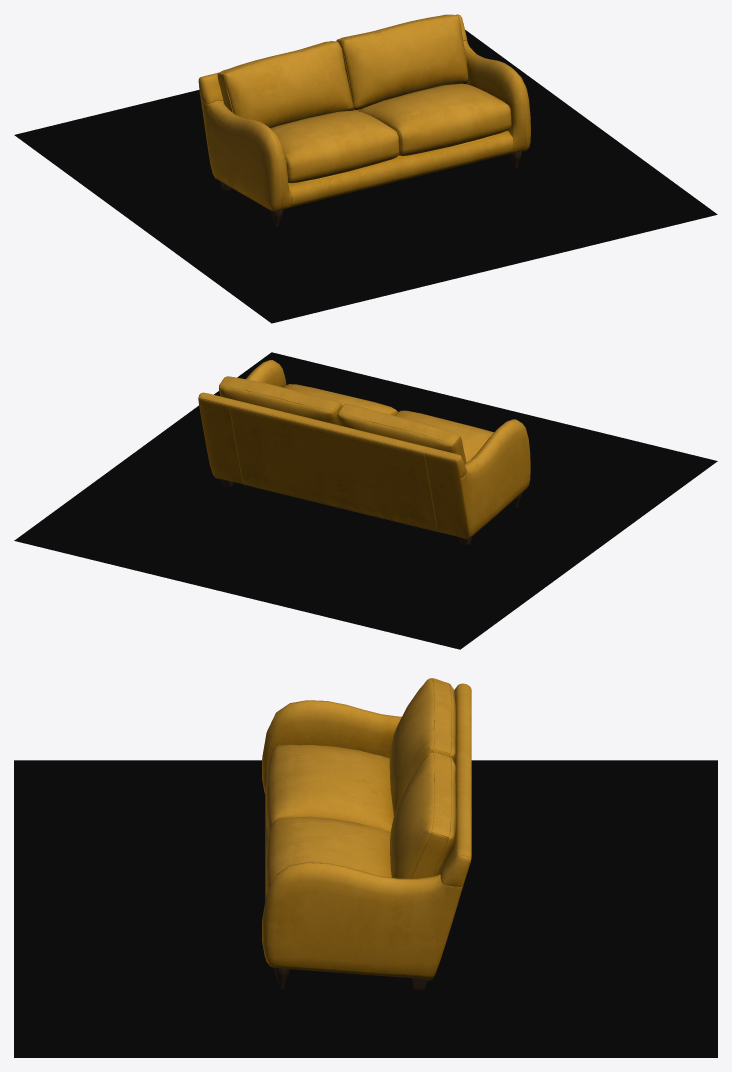
The model's file is sofia_3_seater_sofa_plush_indigo_velvet.glb.
3 views of the same model, one above another, from view 1: azimuth 30°, elevation 25°; view 2: azimuth 150°, elevation 25°; view 3: azimuth 270°, elevation 25° (orthographic). The views are drawn at different scales.
Parts seen in each view (by area): view 1: Plane001, VELVET001; view 2: Plane001, VELVET001; view 3: Plane001, VELVET001.
Part boxes in pixels (box(x1,y1,x2,y2)): Plane001: box(14, 30, 717, 323); VELVET001: box(198, 14, 530, 211); Plane001: box(14, 352, 717, 649); VELVET001: box(198, 360, 530, 539); Plane001: box(14, 760, 717, 1057); VELVET001: box(262, 678, 471, 980).
Bounding box in the file's own units: 334 × 83.26 × 334.
3 materials, 3 textured.
